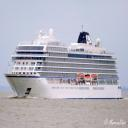cruises: (4, 25, 127, 101)
